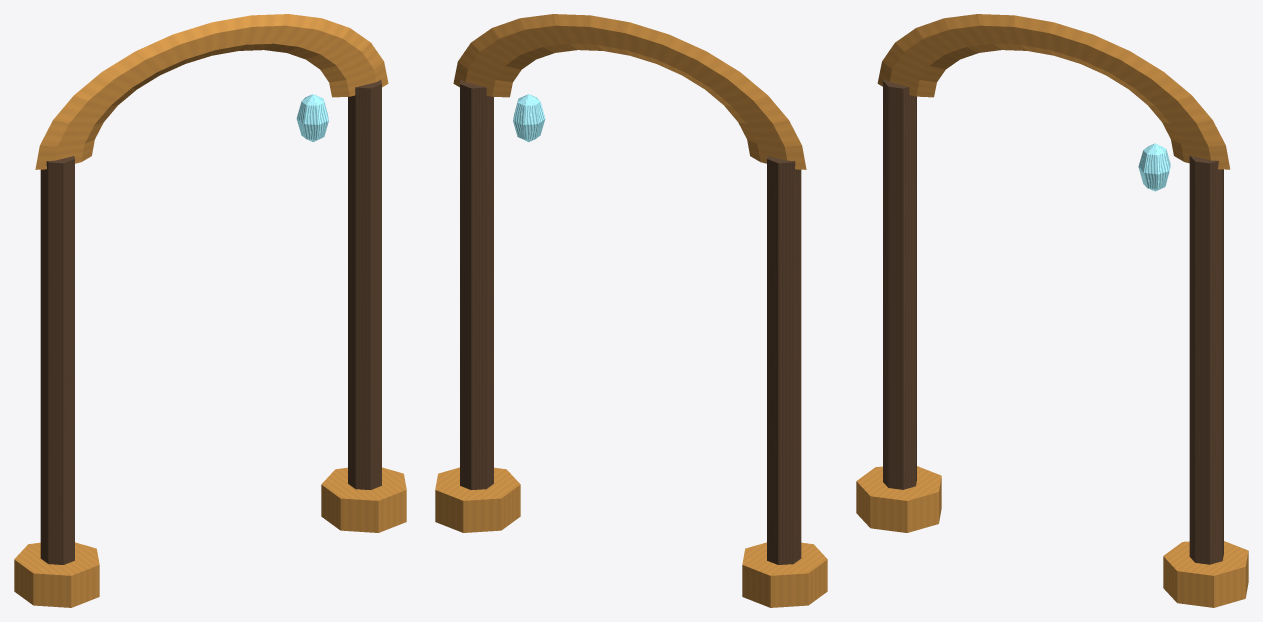
The model's file is atlas100-s011-a09.lod1.glb.
3 views of the same model, side by side, from view 1: azimuth 30°, elevation 25°; view 2: azimuth 150°, elevation 25°; view 3: azimuth 330°, elevation 25° (orthographic).
Parts seen in each view (by area): view 1: atlas100-s011-a09:part-004, atlas100-s011-a09:part-000, atlas100-s011-a09:part-002, atlas100-s011-a09:part-001, atlas100-s011-a09:part-003, atlas100-s011-a09:part-006; view 2: atlas100-s011-a09:part-004, atlas100-s011-a09:part-000, atlas100-s011-a09:part-002, atlas100-s011-a09:part-001, atlas100-s011-a09:part-003, atlas100-s011-a09:part-006; view 3: atlas100-s011-a09:part-004, atlas100-s011-a09:part-002, atlas100-s011-a09:part-000, atlas100-s011-a09:part-003, atlas100-s011-a09:part-001, atlas100-s011-a09:part-006.
Boxes of the visible parts, bbox=[...] form: atlas100-s011-a09:part-004: bbox=[35, 14, 388, 169]; atlas100-s011-a09:part-000: bbox=[40, 156, 74, 564]; atlas100-s011-a09:part-002: bbox=[348, 79, 381, 489]; atlas100-s011-a09:part-001: bbox=[14, 542, 99, 607]; atlas100-s011-a09:part-003: bbox=[321, 467, 406, 532]; atlas100-s011-a09:part-006: bbox=[296, 94, 328, 141]; atlas100-s011-a09:part-004: bbox=[453, 14, 806, 169]; atlas100-s011-a09:part-000: bbox=[767, 156, 801, 564]; atlas100-s011-a09:part-002: bbox=[460, 79, 493, 489]; atlas100-s011-a09:part-001: bbox=[742, 542, 827, 607]; atlas100-s011-a09:part-003: bbox=[435, 467, 520, 532]; atlas100-s011-a09:part-006: bbox=[513, 94, 545, 141]; atlas100-s011-a09:part-004: bbox=[877, 14, 1230, 169]; atlas100-s011-a09:part-002: bbox=[1189, 155, 1223, 564]; atlas100-s011-a09:part-000: bbox=[883, 79, 916, 489]; atlas100-s011-a09:part-003: bbox=[1163, 541, 1248, 607]; atlas100-s011-a09:part-001: bbox=[856, 466, 941, 532]; atlas100-s011-a09:part-006: bbox=[1138, 143, 1170, 191].
Size of the model in its own units: 2.48 by 3.3 by 0.4875.
Materials: 3 (3 with a texture image).
